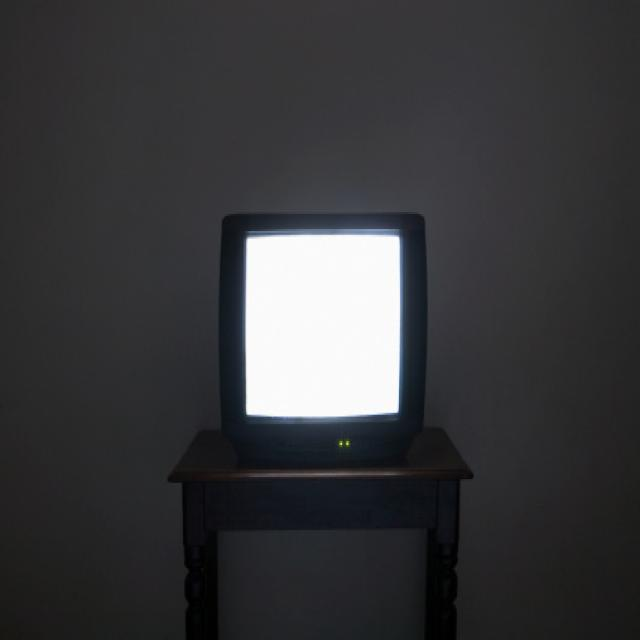Table: (161, 421, 513, 640)
